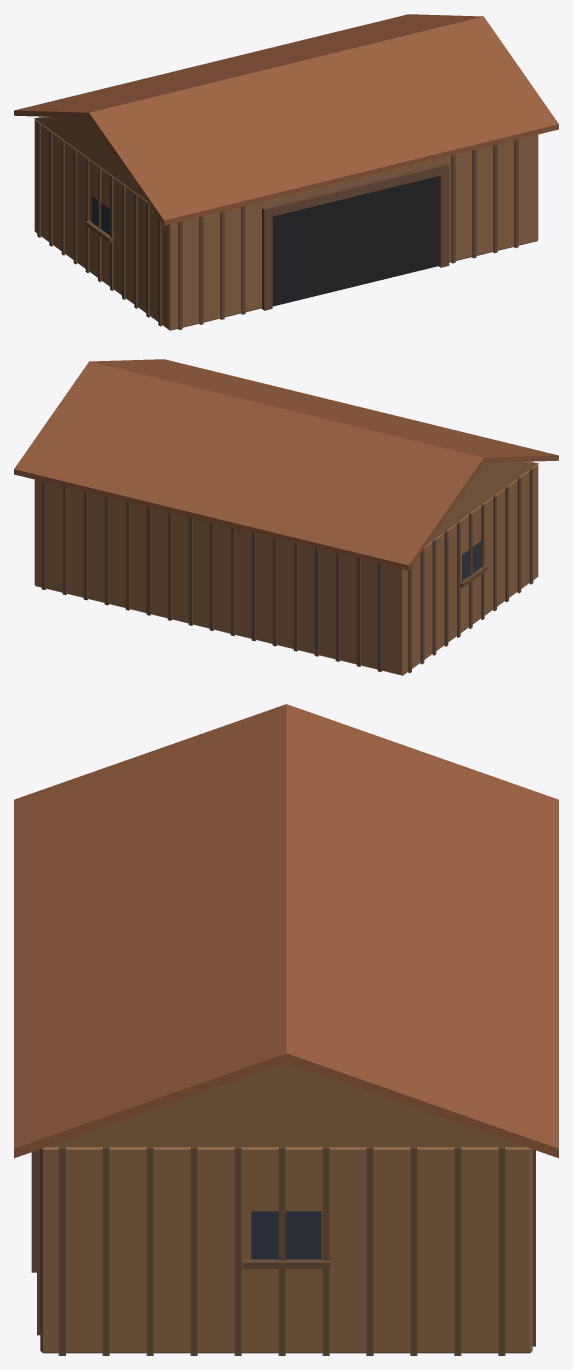
Rendered from Sawmill.fbx.
The picture shows the model from 3 angles, top to bottom: view 1: azimuth 30°, elevation 25°; view 2: azimuth 150°, elevation 25°; view 3: azimuth 270°, elevation 25°; orthographic projection. The views are drawn at different scales.
Parts seen in each view (by area): view 1: Sawmill_Roof, Sawmill_Body, Sawmill_Interior, Sawmill_Battens, Sawmill_Windows; view 2: Sawmill_Roof, Sawmill_Body, Sawmill_Battens, Sawmill_Windows; view 3: Sawmill_Roof, Sawmill_Body, Sawmill_Battens, Sawmill_Windows.
Boxes of the visible parts, x1,y1,x2,y2 form: Sawmill_Roof: [14, 14, 558, 225]; Sawmill_Body: [34, 116, 538, 330]; Sawmill_Interior: [272, 176, 438, 306]; Sawmill_Battens: [37, 122, 518, 329]; Sawmill_Windows: [91, 196, 109, 235]; Sawmill_Roof: [14, 359, 558, 570]; Sawmill_Body: [34, 461, 538, 675]; Sawmill_Battens: [41, 468, 533, 673]; Sawmill_Windows: [462, 541, 481, 580]; Sawmill_Roof: [14, 704, 558, 1158]; Sawmill_Body: [40, 1063, 532, 1353]; Sawmill_Battens: [31, 1147, 535, 1355]; Sawmill_Windows: [251, 1211, 321, 1259].
Size of the model in its own units: 47 by 19.6 by 31.
